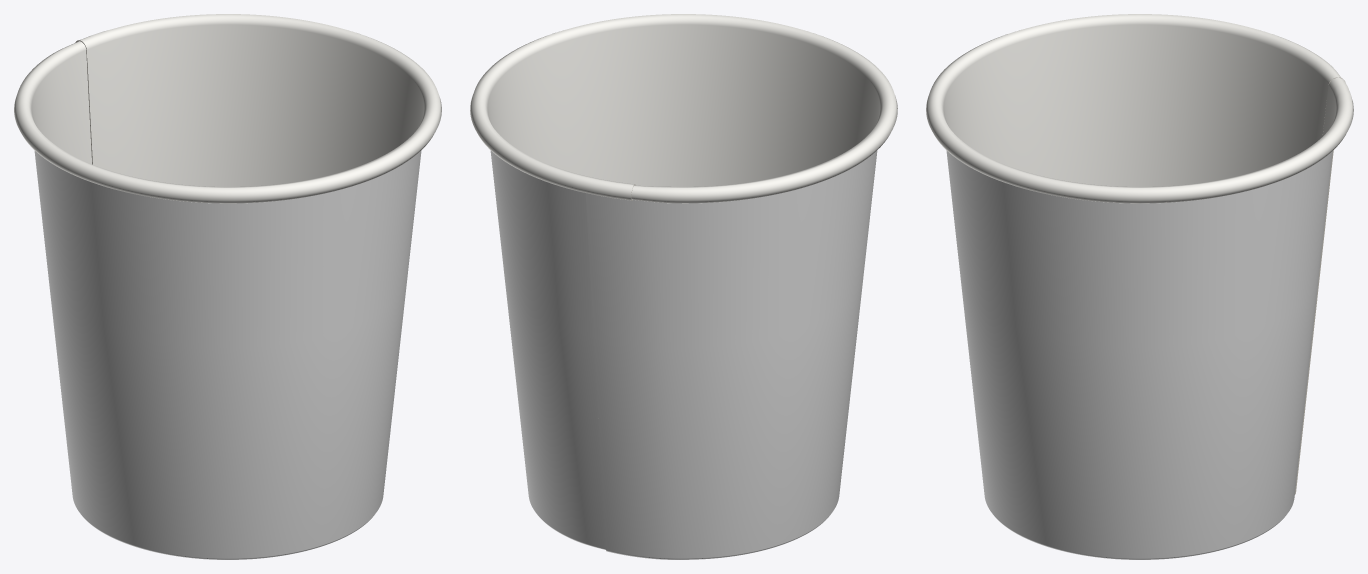
3 renders of one model, left to right at view 1: azimuth 30°, elevation 25°; view 2: azimuth 150°, elevation 25°; view 3: azimuth 270°, elevation 25°, orthographic.
Parts seen in each view (by area): view 1: Cup_Wall; view 2: Cup_Wall; view 3: Cup_Wall.
Part boxes in pixels (x1=…): Cup_Wall: x1=14, y1=14, x2=441, y2=559; Cup_Wall: x1=470, y1=14, x2=897, y2=559; Cup_Wall: x1=926, y1=14, x2=1353, y2=559.
Bounding box in the file's own units: 0.062 × 0.0631 × 0.062.
Materials: 3 (1 with a texture image).
